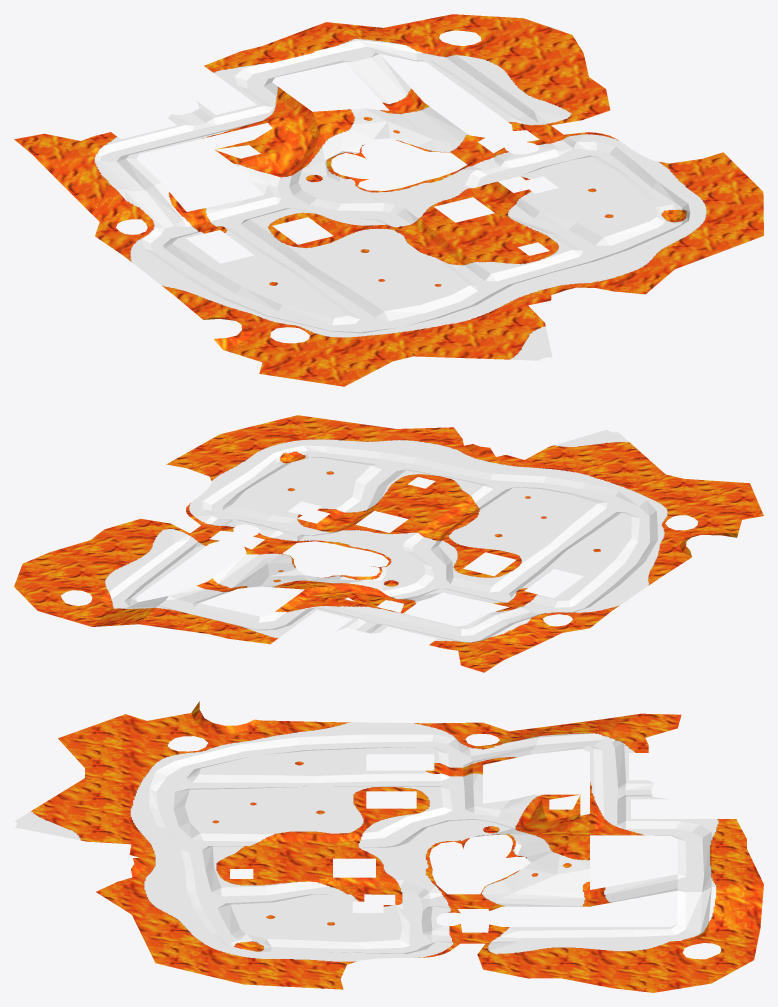
The model's file is pollution00.dae.
The picture shows the model from 3 angles, top to bottom: view 1: azimuth 30°, elevation 25°; view 2: azimuth 150°, elevation 25°; view 3: azimuth 270°, elevation 25°; orthographic projection. The views are drawn at different scales.
Visible parts, largest first — view 1: m0, m0_1; view 2: m0, m0_1; view 3: m0, m0_1.
Boxes of the visible parts, box(x1,y1,x2,y2) form: m0: box(94, 38, 706, 360); m0_1: box(14, 14, 763, 386); m0: box(105, 429, 667, 642); m0_1: box(14, 415, 763, 672); m0: box(14, 722, 718, 961); m0_1: box(31, 701, 763, 992).
Size of the model in its own units: 17175 by 700 by 19254.
Materials: 2 (2 with a texture image).
